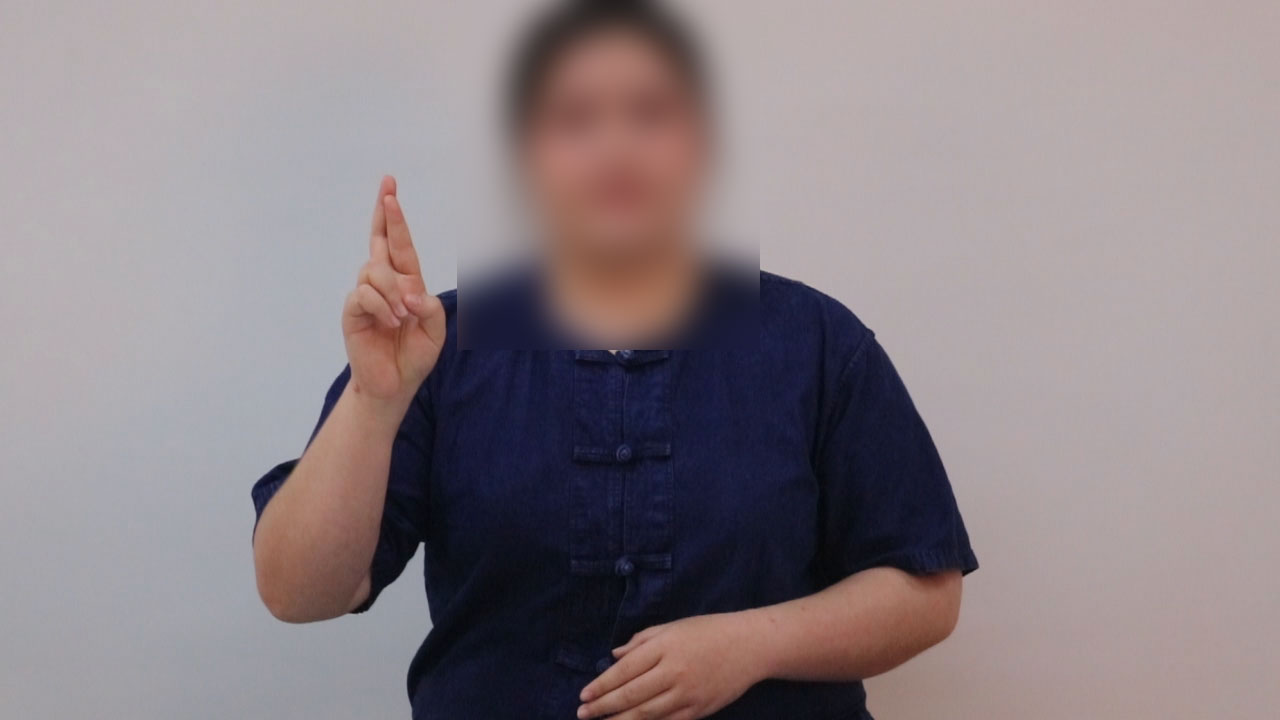rao: (322, 164, 457, 429)
